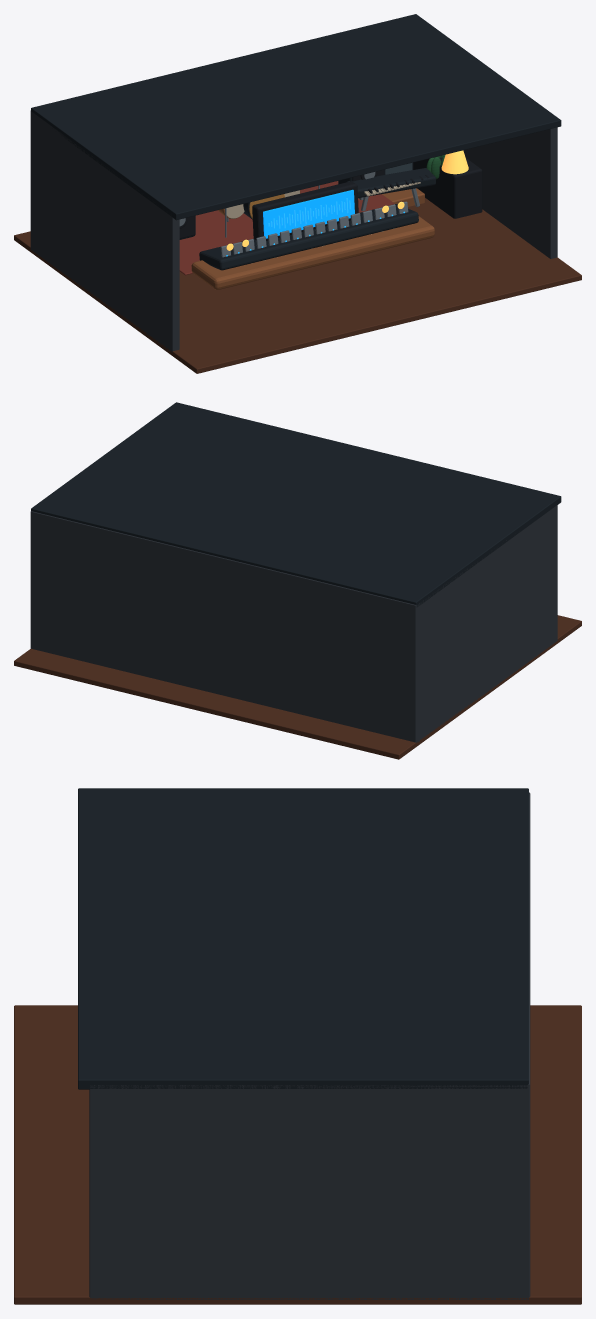
The model's file is production_room_001.glb.
3 renders of one model, top to bottom at view 1: azimuth 30°, elevation 25°; view 2: azimuth 150°, elevation 25°; view 3: azimuth 270°, elevation 25°, orthographic. The views are drawn at different scales.
Visible parts, largest first — view 1: ceiling, room_floor, left_wall, right_wall, operator_desk, console_bed, studio_rug, side_console.001, meter_screen, meter_bridge, practice_keys, lamp_shade.001; view 2: ceiling, rear_wall, left_wall, room_floor; view 3: ceiling, right_wall, room_floor, rear_wall.
Part boxes in pixels (x1,y1,x2,y2): ceiling: (31,14,561,220); room_floor: (14,198,581,373); left_wall: (31,111,179,352); right_wall: (463,127,557,258); operator_desk: (191,216,434,289); console_bed: (199,204,418,270); studio_rug: (179,181,394,275); side_console.001: (413,157,482,218); meter_screen: (263,189,354,238); meter_bridge: (252,181,358,240); practice_keys: (347,168,435,197); lamp_shade.001: (441,150,468,174); ceiling: (31,402,561,607); rear_wall: (30,511,419,742); left_wall: (416,505,557,741); room_floor: (14,615,581,759); ceiling: (78,788,528,1089); right_wall: (89,1085,527,1299); room_floor: (14,1005,581,1304); rear_wall: (518,792,530,1299).
Bounding box in the file's own units: 12.4 × 4.46 × 10.2.
